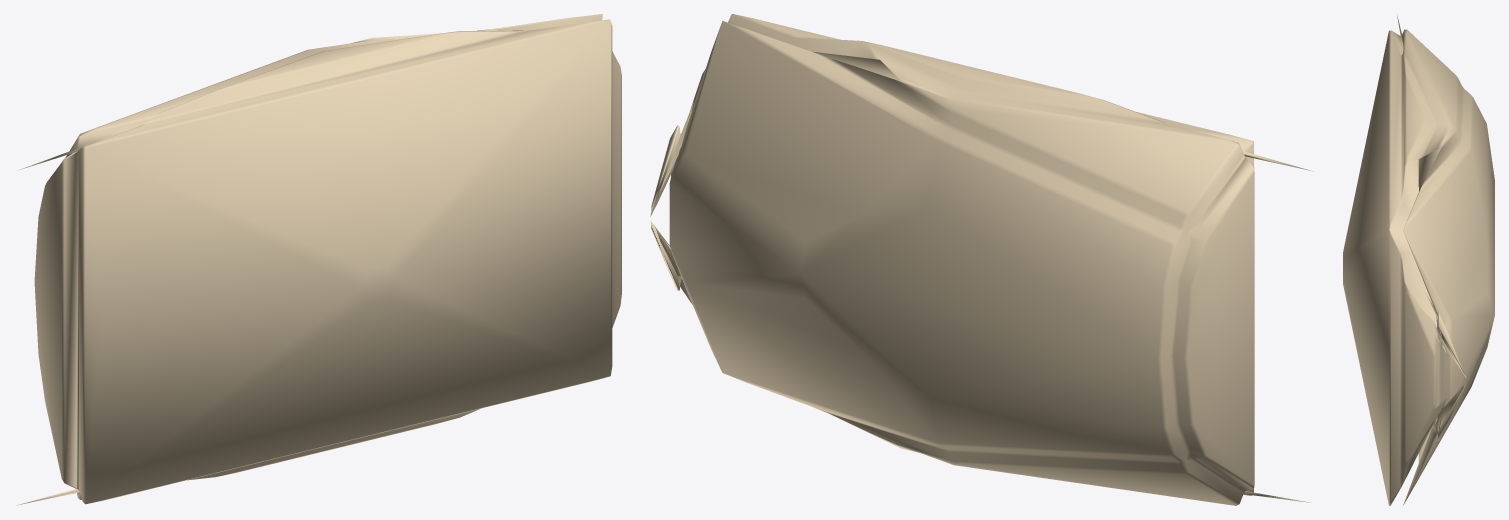
The model's file is carrier_heavy_tidemark.glb.
The picture shows the model from 3 angles, left to right: view 1: azimuth 30°, elevation 25°; view 2: azimuth 150°, elevation 25°; view 3: azimuth 270°, elevation 25°; orthographic projection. The views are drawn at different scales.
Visible parts, largest first — view 1: carrier_heavy_tidemark; view 2: carrier_heavy_tidemark; view 3: carrier_heavy_tidemark.
Part boxes in pixels (x1,y1,x2,y2): carrier_heavy_tidemark: [17, 14, 621, 505]; carrier_heavy_tidemark: [650, 14, 1312, 505]; carrier_heavy_tidemark: [1343, 16, 1494, 505].
Bounding box in the file's own units: 10.08 × 6 × 2.73.
